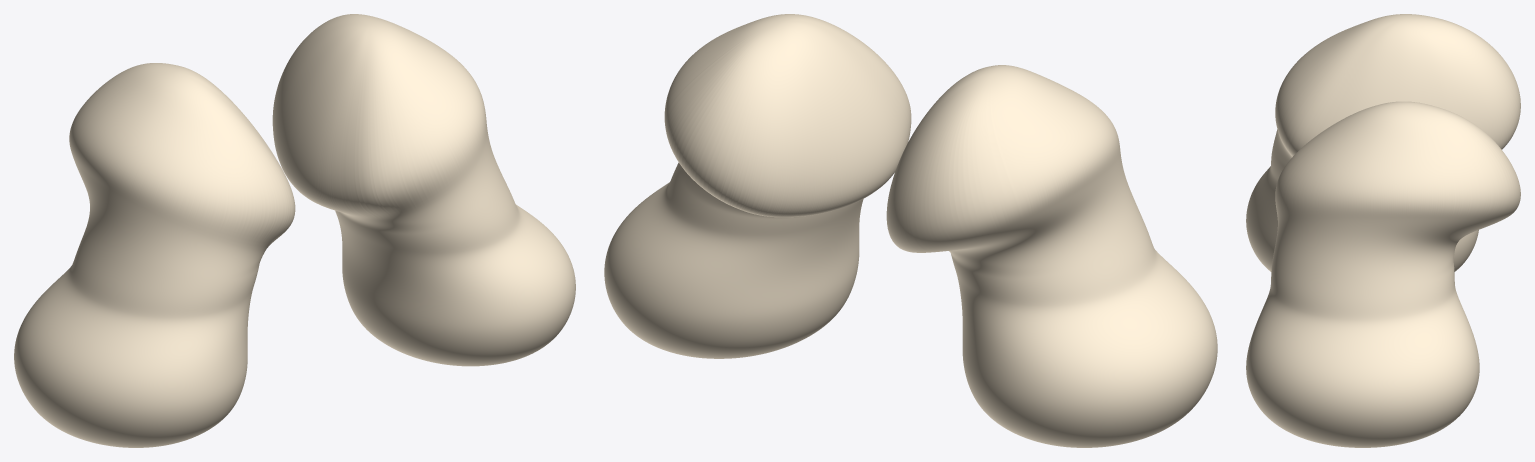
Rendered from legs.glb.
3 views of the same model, side by side, from view 1: azimuth 30°, elevation 25°; view 2: azimuth 150°, elevation 25°; view 3: azimuth 270°, elevation 25° (orthographic). The views are drawn at different scales.
Parts seen in each view (by area): view 1: Leg_L, Leg_R; view 2: Leg_L, Leg_R; view 3: Leg_R, Leg_L.
Part boxes in pixels (x1,y1,x2,y2): Leg_L: [14, 63, 295, 447]; Leg_R: [272, 14, 575, 366]; Leg_L: [886, 65, 1217, 447]; Leg_R: [604, 14, 911, 358]; Leg_R: [1246, 101, 1520, 447]; Leg_L: [1246, 14, 1520, 271].
Size of the model in its own units: 54.7 by 31.5 by 27.05.
